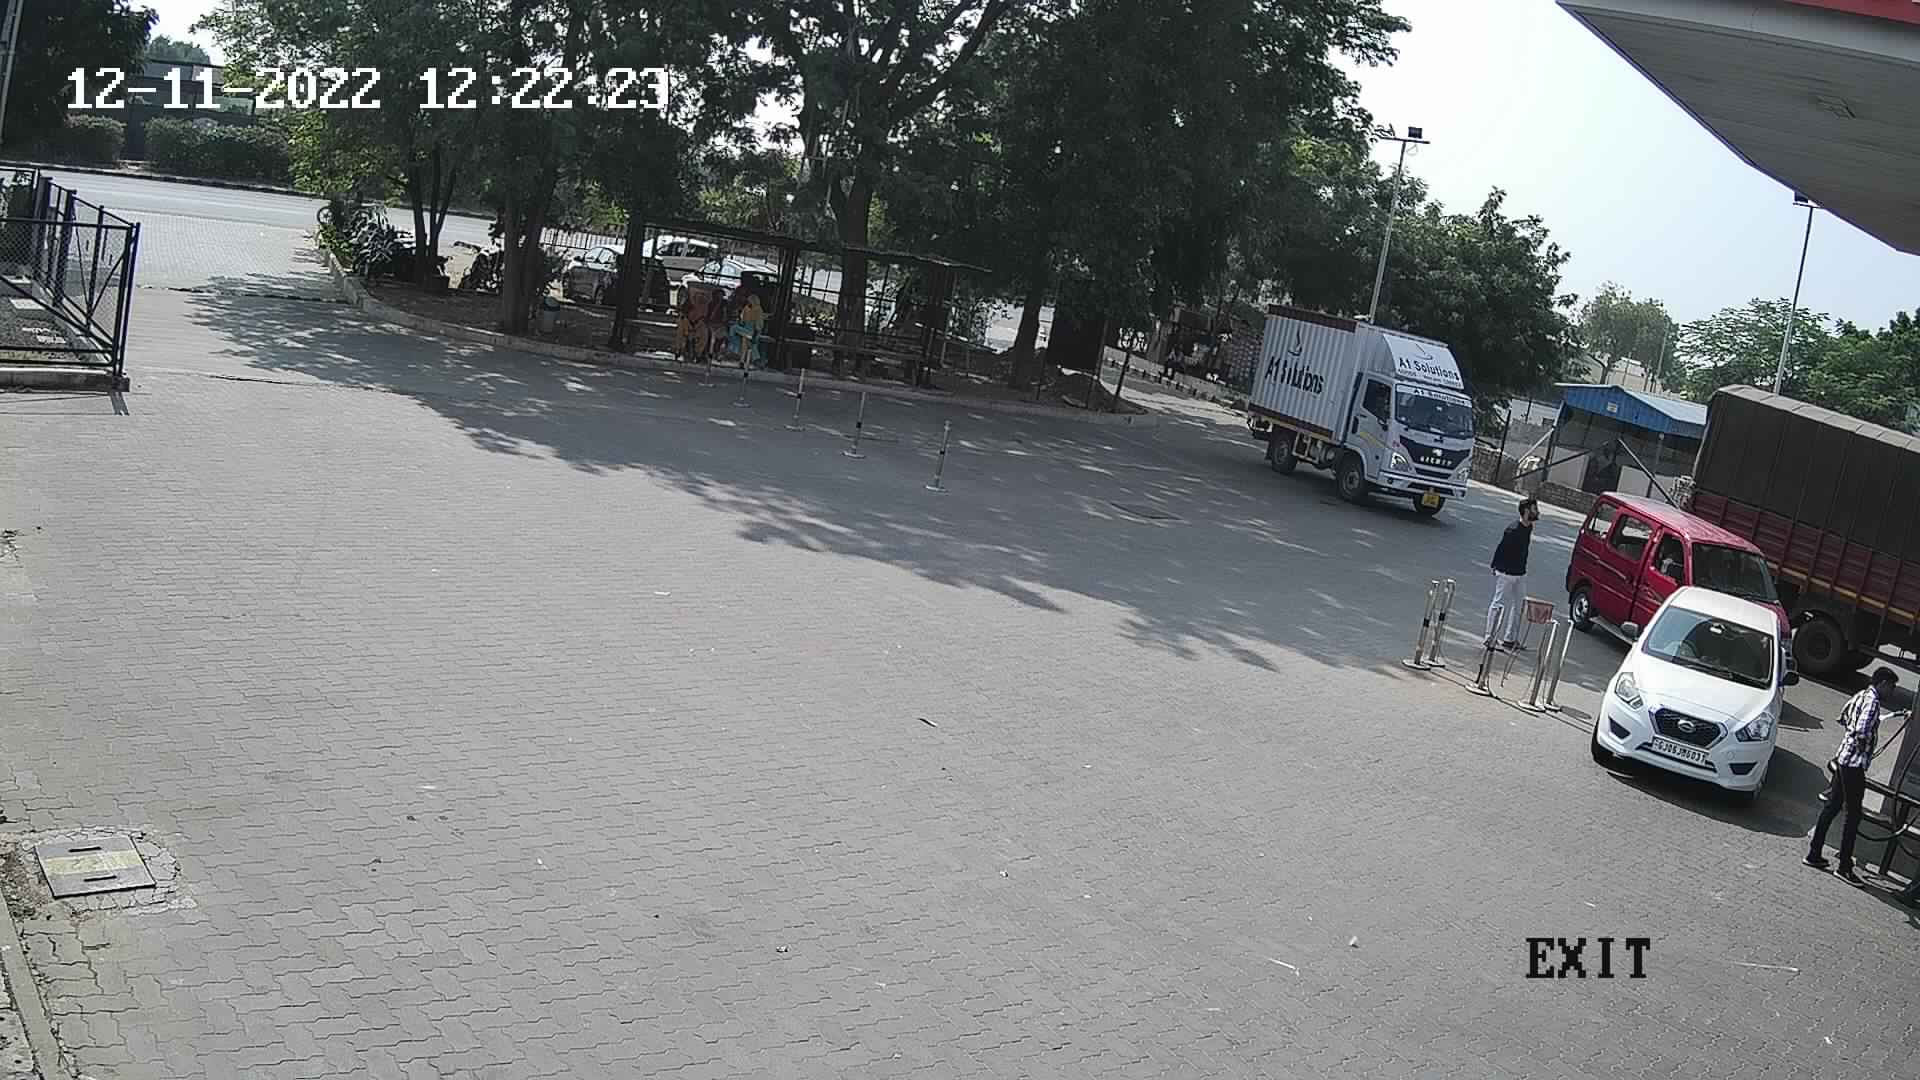Car: (1561, 481, 1807, 692), (1582, 580, 1801, 814), (670, 248, 796, 309), (553, 237, 632, 318), (640, 220, 727, 293)
HMV: (1669, 371, 1917, 699), (1232, 289, 1486, 518)
